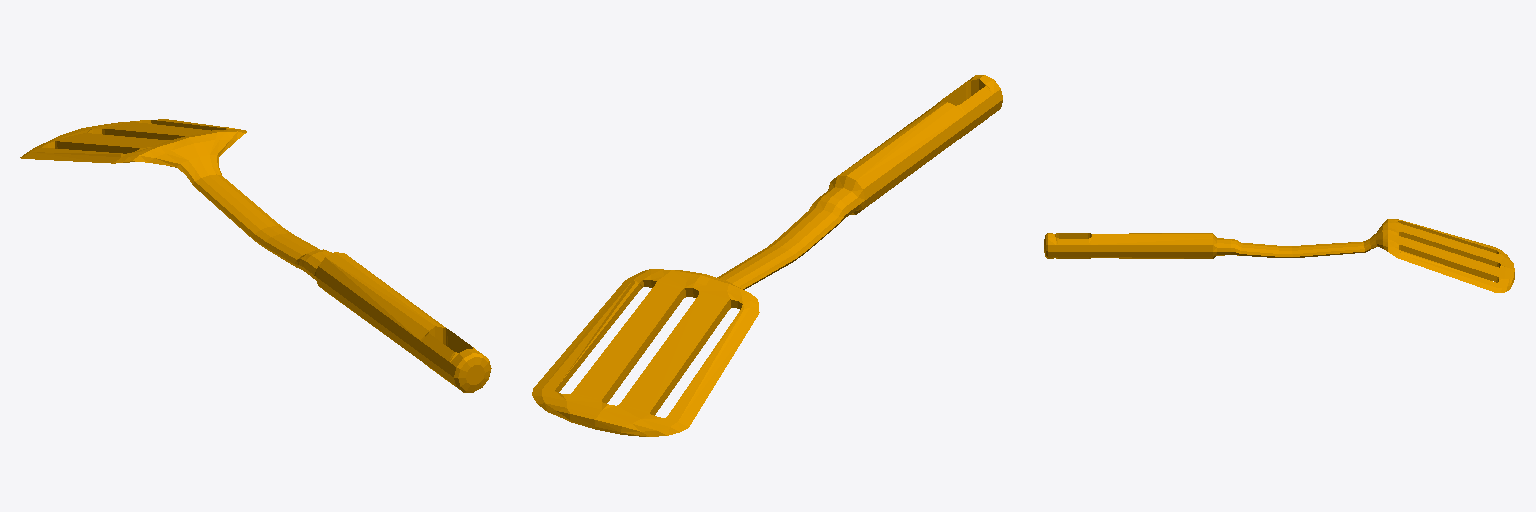
The robot description file, URDF, robot "shovel.urdf":
<?xml version="1.0" ?>
<robot name="shovel.urdf">
  <link name="shovel">
    <visual>
      <origin xyz="0 0 0"/>
      <geometry>
        <mesh filename="shovel.obj" scale="0.02 0.02 0.03"/>
      </geometry>
    </visual>
    <collision>
      <origin xyz="0 0 0"/>
      <geometry>
        <mesh filename="shovel.obj" scale="0.02 0.02 0.03"/>
      </geometry>
    </collision>
    <inertial>
      <density value="567.0"/>
    </inertial>
  </link>

</robot>

--- Facts derived from the render (not from the file) ---
3 views of the same robot in one strip: view 1: azimuth 30°, elevation 25°; view 2: azimuth 150°, elevation 25°; view 3: azimuth 270°, elevation 25° (orthographic).
Robot: shovel.urdf — 1 links, 0 joints (none); root link shovel; default pose: every joint at zero.
Visible links, largest first — view 1: shovel; view 2: shovel; view 3: shovel.
Link boxes in pixels (x1,y1,x2,y2): shovel: (20, 119, 491, 392); shovel: (532, 75, 1002, 436); shovel: (1044, 219, 1514, 292).
Size in the robot's own frame: 0.1665 by 0.7241 by 0.0796 metres.
Meshes: 1 distinct files referenced, 1 mesh visuals loaded (1 OBJ).